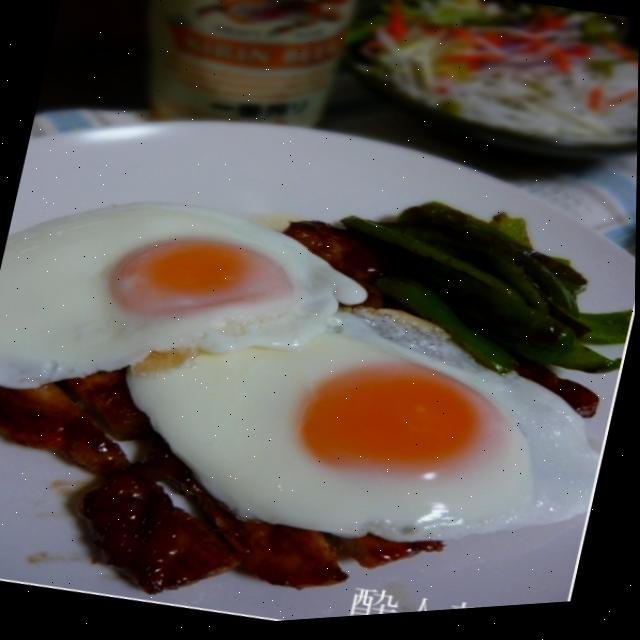鸡蛋料理: (0, 136, 638, 612)
